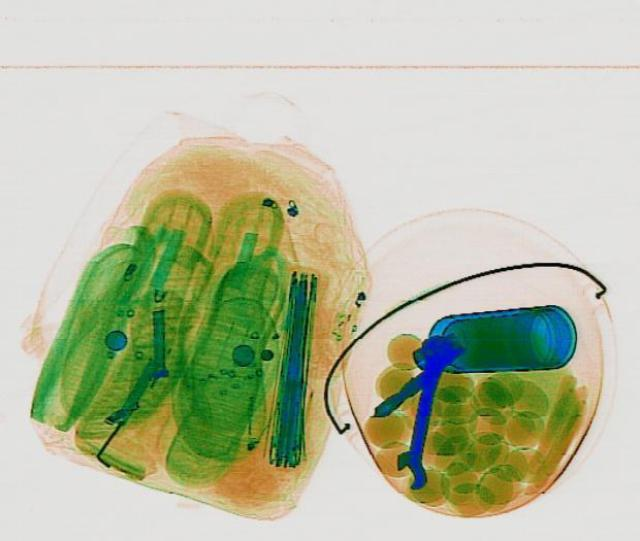Wrench: (388, 333, 454, 490)
